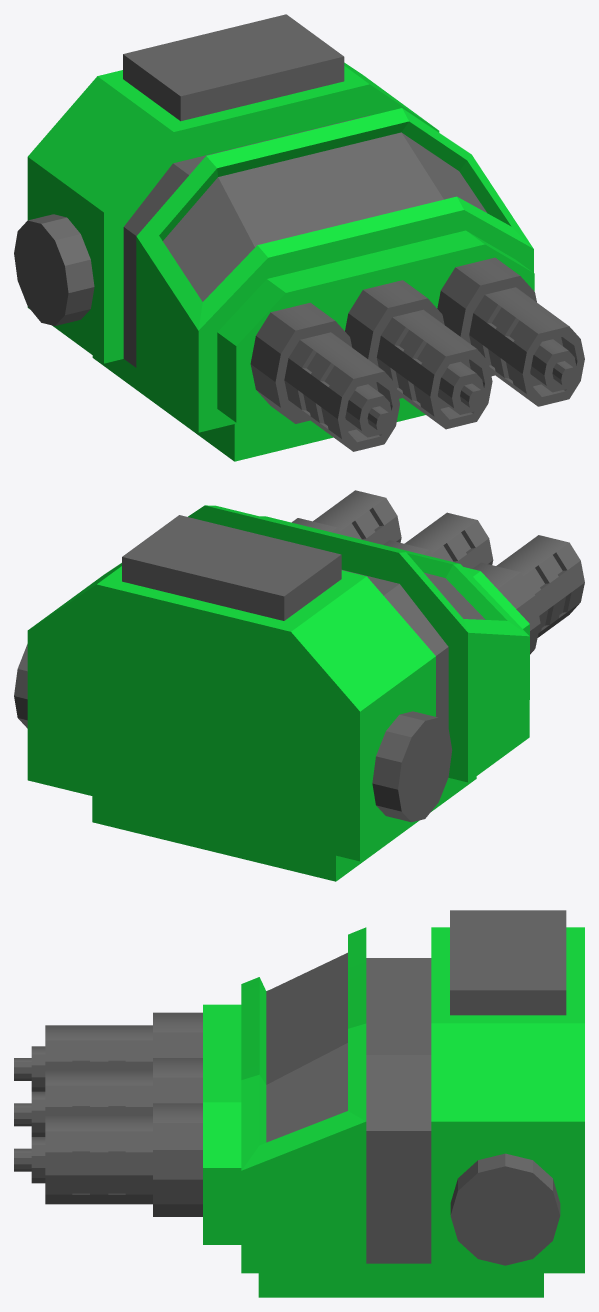
Rendered from TankTurret6.fbx.
3 renders of one model, top to bottom at view 1: azimuth 30°, elevation 25°; view 2: azimuth 150°, elevation 25°; view 3: azimuth 270°, elevation 25°, orthographic.
Visible parts, largest first — view 1: Cube.008; view 2: Cube.008; view 3: Cube.008.
Boxes of the visible parts, left/top/right/bottom form: Cube.008: left=14, top=14, right=584, bottom=461; Cube.008: left=14, top=490, right=584, bottom=881; Cube.008: left=14, top=910, right=584, bottom=1297.
Size of the model in its own units: 169 by 215 by 119.
